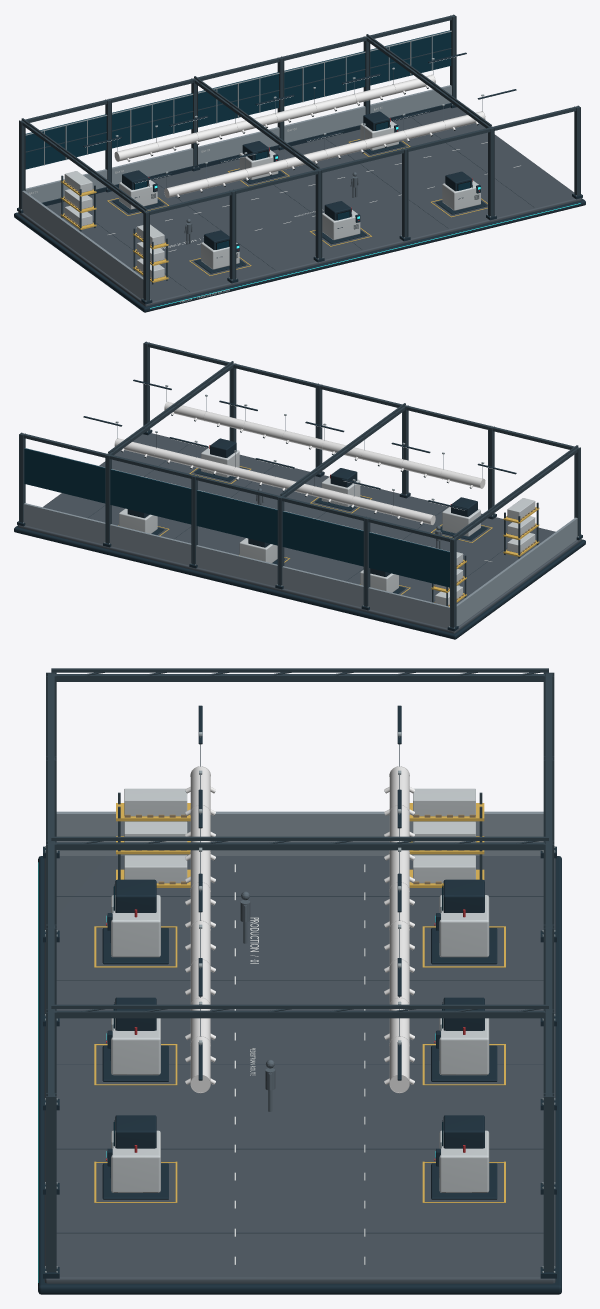
The picture shows the model from 3 angles, top to bottom: view 1: azimuth 30°, elevation 25°; view 2: azimuth 150°, elevation 25°; view 3: azimuth 270°, elevation 25°; orthographic projection. The views are drawn at different scales.
Visible parts, largest first — view 1: Architecture / Concrete | matte, Architecture / Structure | powder coated, Architecture / Window blue grey, Architecture / Machine graphite, Architecture / Painted walls, Architecture / Machine panels, Duct_01, Duct_02, Architecture / Brushed aluminium, Architecture / Safety markings, Architecture / Control display | cyan, Architecture / Architectural white; view 2: Architecture / Concrete | matte, Architecture / Window blue grey, Architecture / Structure | powder coated, Architecture / Painted walls, Architecture / Machine graphite, Architecture / Machine panels, Duct_02, Duct_01, Architecture / Safety markings, Architecture / Brushed aluminium; view 3: Architecture / Concrete | matte, Architecture / Structure | powder coated, Architecture / Machine graphite, Architecture / Machine panels, Architecture / Painted walls, Duct_01, Duct_02, Architecture / Safety markings, Architecture / Architectural white.
Boxes of the visible parts, box(x1,y1,x2,y2) form: Architecture / Concrete | matte: box(18, 107, 581, 306); Architecture / Structure | powder coated: box(19, 14, 580, 300); Architecture / Window blue grey: box(25, 30, 480, 249); Architecture / Machine graphite: box(14, 52, 585, 312); Architecture / Painted walls: box(22, 85, 451, 298); Architecture / Machine panels: box(64, 120, 480, 278); Duct_01: box(164, 111, 485, 197); Duct_02: box(114, 75, 435, 161); Architecture / Brushed aluminium: box(18, 30, 581, 301); Architecture / Safety markings: box(60, 139, 487, 282); Architecture / Control display | cyan: box(150, 127, 580, 308); Architecture / Architectural white: box(29, 107, 520, 302); Architecture / Concrete | matte: box(18, 433, 581, 633); Architecture / Window blue grey: box(24, 448, 449, 587); Architecture / Structure | powder coated: box(19, 341, 580, 627); Architecture / Painted walls: box(23, 503, 577, 628); Architecture / Machine graphite: box(14, 379, 585, 639); Architecture / Machine panels: box(119, 447, 535, 605); Duct_02: box(114, 438, 435, 524); Duct_01: box(164, 402, 485, 488); Architecture / Safety markings: box(118, 466, 539, 606); Architecture / Brushed aluminium: box(18, 385, 581, 628); Architecture / Concrete | matte: box(44, 856, 555, 1283); Architecture / Structure | powder coated: box(46, 668, 554, 1272); Architecture / Machine graphite: box(38, 705, 561, 1294); Architecture / Machine panels: box(111, 788, 489, 1192); Architecture / Painted walls: box(56, 811, 543, 855); Duct_01: box(190, 766, 210, 1092); Duct_02: box(389, 766, 409, 1092); Architecture / Safety markings: box(94, 803, 505, 1202); Architecture / Architectural white: box(234, 864, 365, 1264).
Size of the model in its own units: 30.8 by 6.68 by 15.81.
